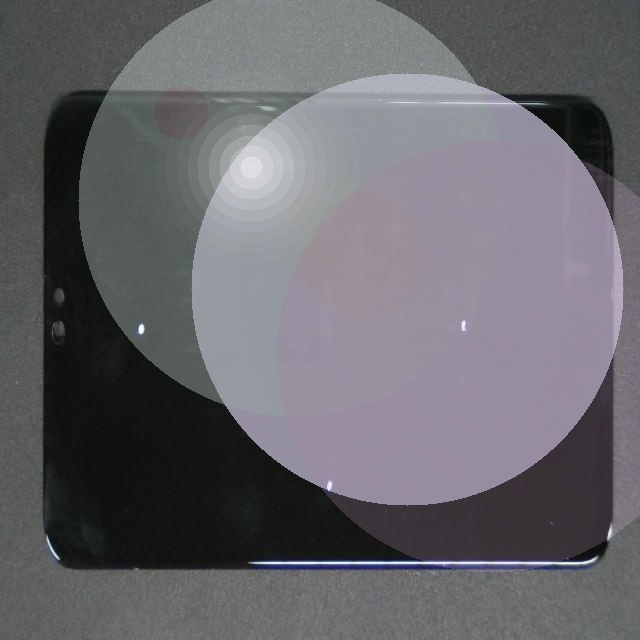stain: (164, 214, 481, 640), (243, 159, 640, 449), (70, 133, 199, 475)
